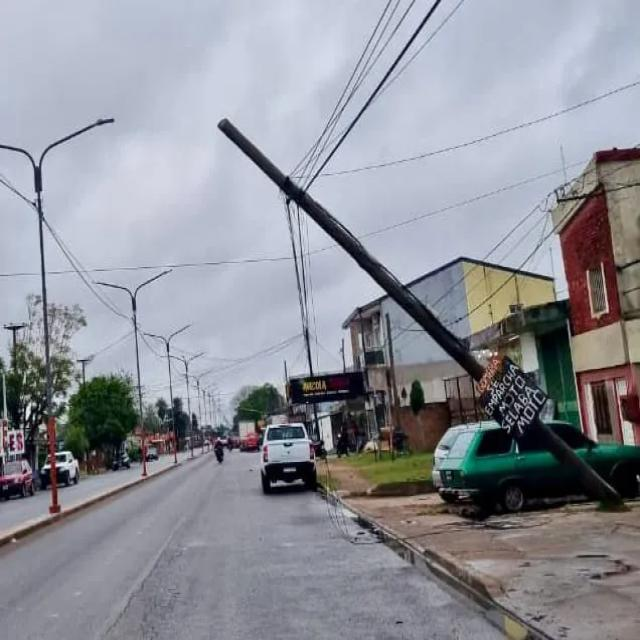Inclined Pole: (209, 109, 630, 510)
